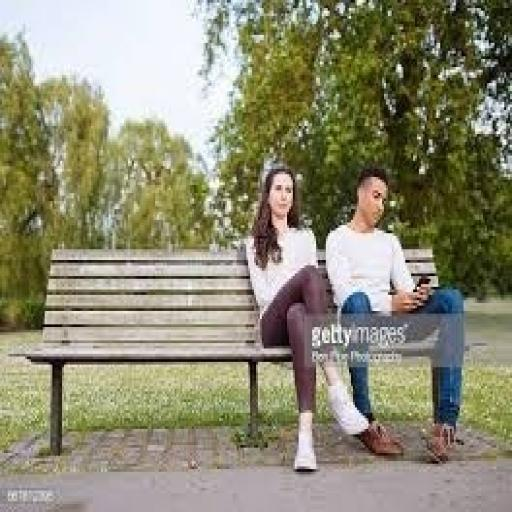sitting: (242, 156, 468, 469)
